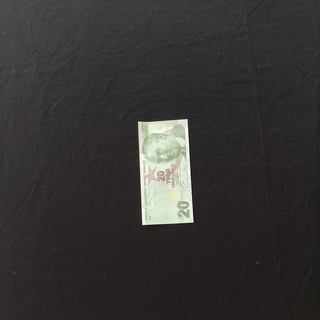20TLFront: (137, 119, 193, 225)
